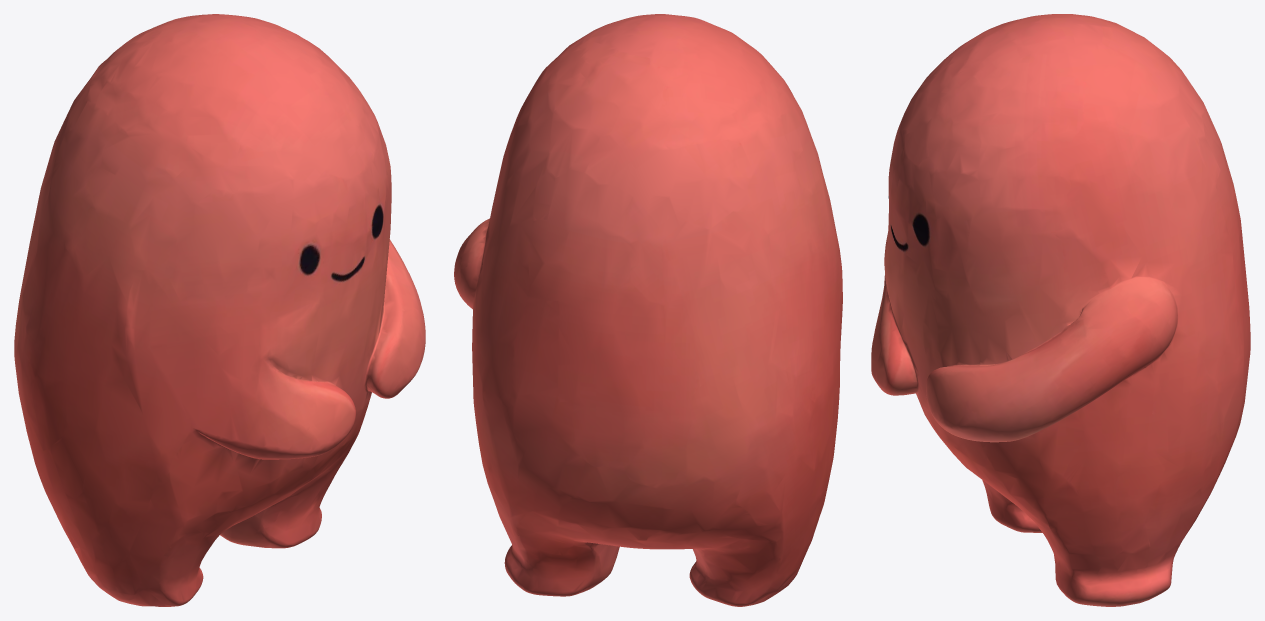
Rendered from blobby.glb.
3 views of the same model, side by side, from view 1: azimuth 30°, elevation 25°; view 2: azimuth 150°, elevation 25°; view 3: azimuth 270°, elevation 25° (orthographic). The views are drawn at different scales.
Size of the model in its own units: 0.596 by 0.8785 by 0.5668.
1 material, 1 textured.
